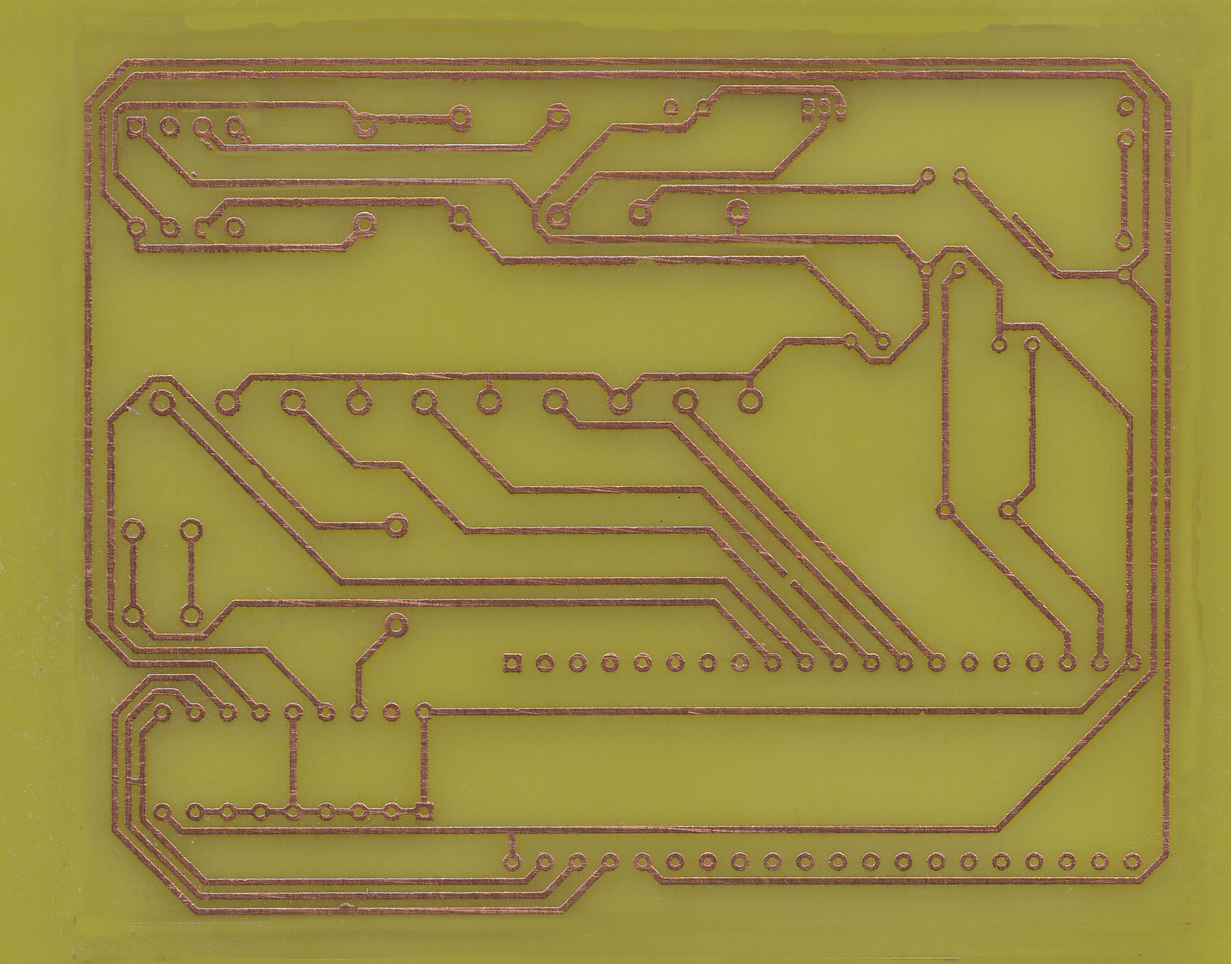missing_hole: (192, 213, 215, 240)
mouse_bite: (628, 252, 660, 268)
open_circuit: (773, 565, 799, 587)
short: (121, 768, 148, 789)
spur: (336, 901, 358, 920)
spurious_copper: (1009, 211, 1058, 263), (196, 136, 214, 153)
